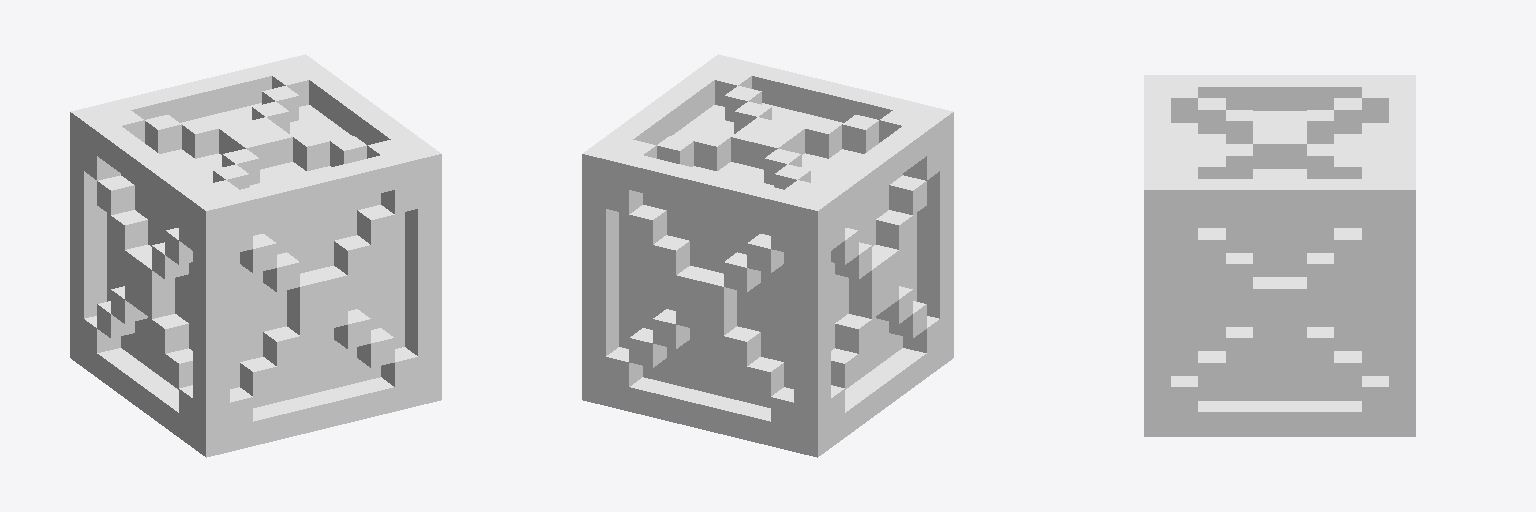
The model's file is BlocksAndFloors-3.obj.
3 renders of one model, left to right at view 1: azimuth 30°, elevation 25°; view 2: azimuth 150°, elevation 25°; view 3: azimuth 270°, elevation 25°, orthographic.
Visible parts, largest first — view 1: object 1; view 2: object 1; view 3: object 1.
Boxes of the visible parts, x1,y1,x2,y2 form: object 1: [70, 54, 441, 457]; object 1: [582, 54, 953, 457]; object 1: [1144, 75, 1415, 436].
Bounding box in the file's own units: 1 × 1 × 1.